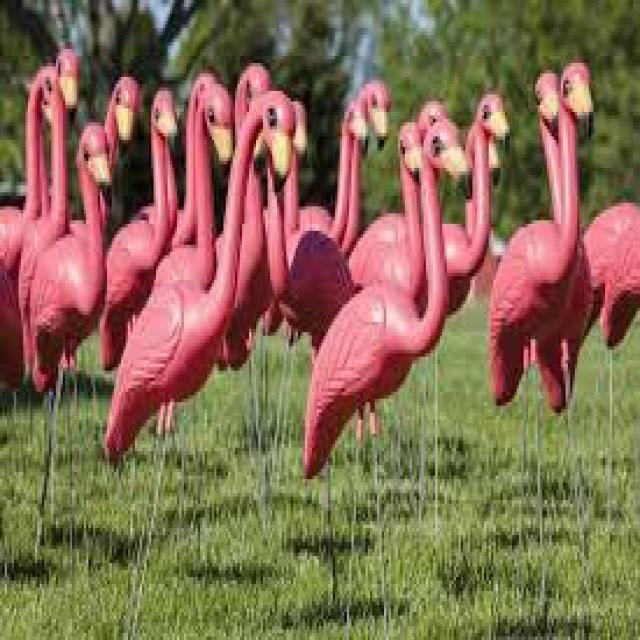Flamingo: (105, 88, 299, 461), (300, 114, 471, 480), (486, 58, 599, 395), (30, 125, 114, 398)
